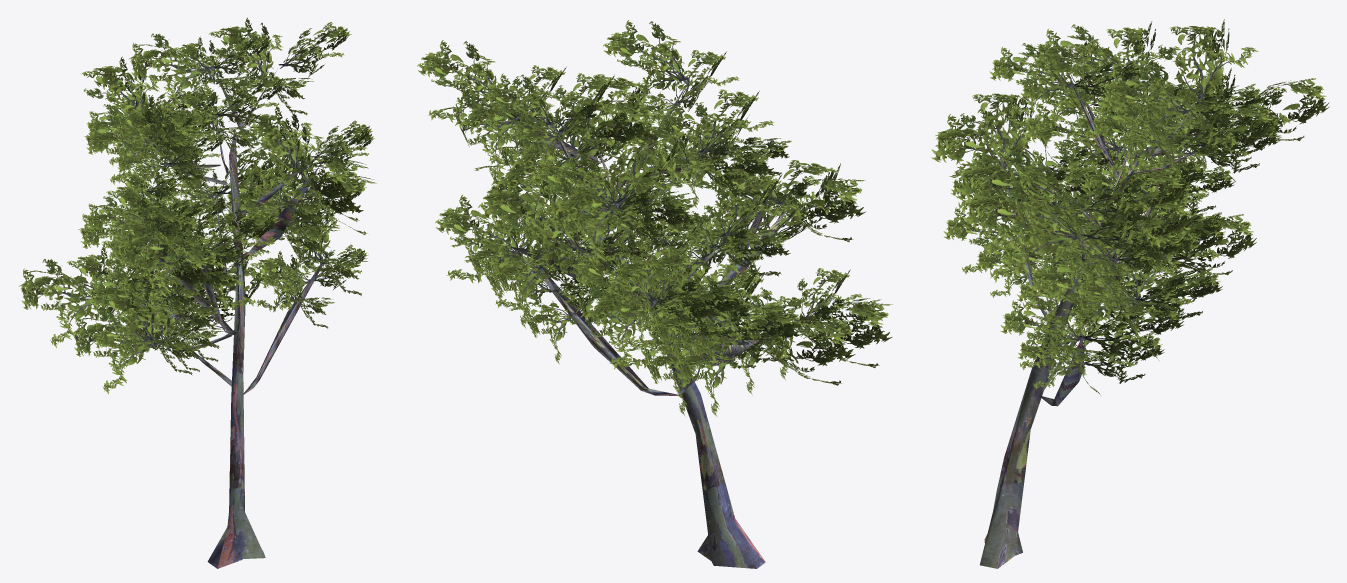
The model's file is LowPolyTree9_2.fbx.
The picture shows the model from 3 angles, left to right: view 1: azimuth 30°, elevation 25°; view 2: azimuth 150°, elevation 25°; view 3: azimuth 270°, elevation 25°; orthographic projection. The views are drawn at different scales.
Visible parts, largest first — view 1: Tree9_2; view 2: Tree9_2; view 3: Tree9_2.
Part boxes in pixels (x1=…): Tree9_2: x1=18, y1=17, x2=376, y2=568; Tree9_2: x1=417, y1=20, x2=892, y2=568; Tree9_2: x1=931, y1=19, x2=1329, y2=568.
Bounding box in the file's own units: 1842 × 2298 × 1555.
